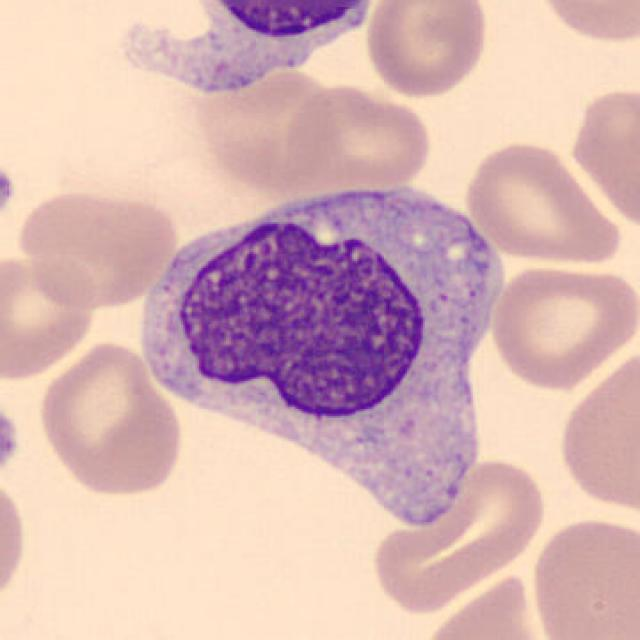Monocyte: (124, 166, 508, 515), (103, 0, 388, 113)
Platelets: (0, 404, 23, 478), (0, 164, 18, 222)
RBC: (366, 450, 553, 617), (34, 338, 186, 499), (188, 58, 346, 198), (12, 184, 178, 310), (459, 138, 622, 266), (486, 261, 636, 391), (281, 80, 434, 192), (554, 342, 640, 516), (526, 513, 638, 640), (360, 0, 492, 100), (0, 250, 101, 380), (565, 81, 640, 235), (416, 571, 553, 640), (530, 0, 638, 46), (0, 473, 30, 610)
